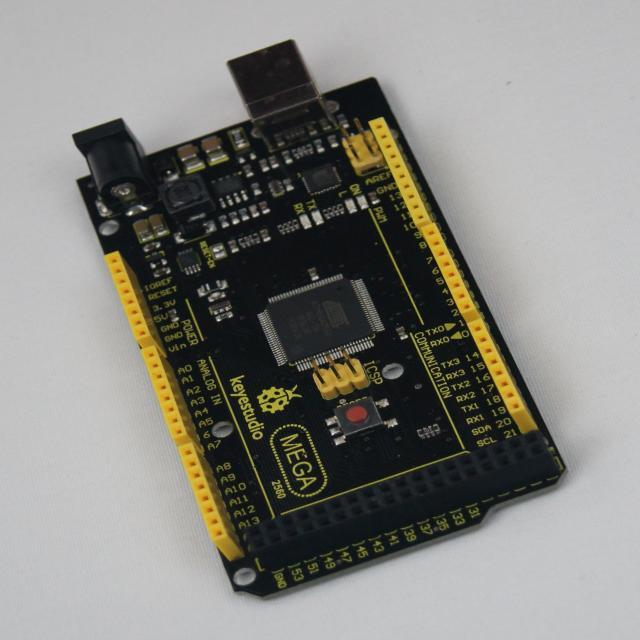Arduino Mega 2560 -Yellow-: (74, 42, 565, 597)
